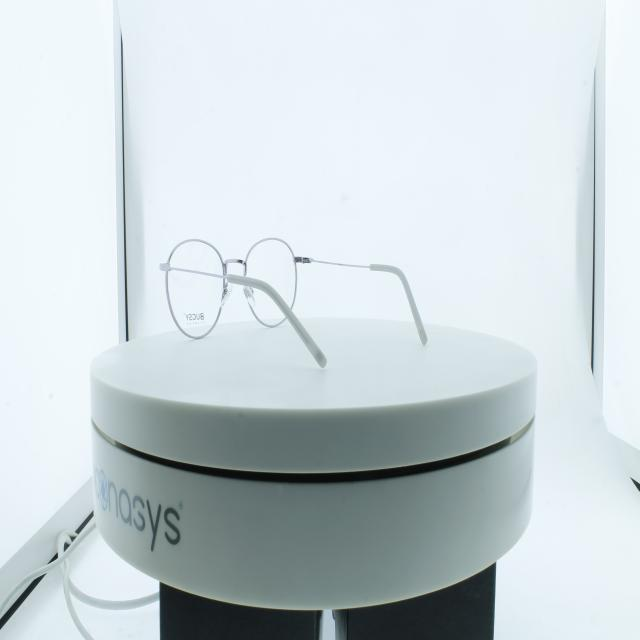Specs: (152, 215, 434, 378)
